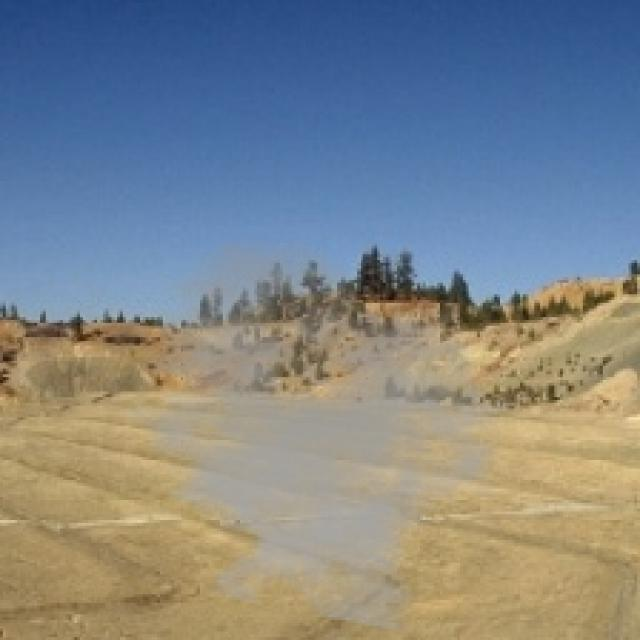smoke: (100, 235, 520, 634)
